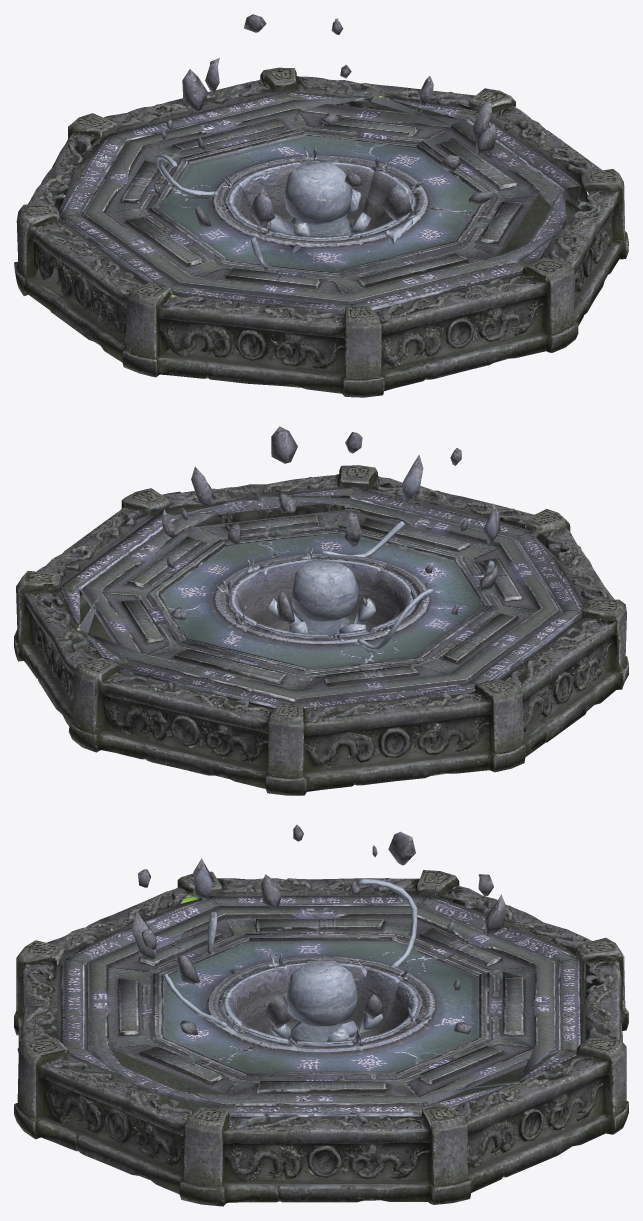
File: shitai.glb
The picture shows the model from 3 angles, top to bottom: view 1: azimuth 30°, elevation 25°; view 2: azimuth 150°, elevation 25°; view 3: azimuth 270°, elevation 25°; orthographic projection. The views are drawn at different scales.
Visible parts, largest first — view 1: tripo_node_5d497a23-7fc4-450d-986b-0cbfbec2738d; view 2: tripo_node_5d497a23-7fc4-450d-986b-0cbfbec2738d; view 3: tripo_node_5d497a23-7fc4-450d-986b-0cbfbec2738d.
Part boxes in pixels (x1,y1,x2,y2): tripo_node_5d497a23-7fc4-450d-986b-0cbfbec2738d: [14, 14, 628, 397]; tripo_node_5d497a23-7fc4-450d-986b-0cbfbec2738d: [14, 426, 628, 795]; tripo_node_5d497a23-7fc4-450d-986b-0cbfbec2738d: [14, 824, 628, 1206].
Size of the model in its own units: 0.998 by 0.3809 by 0.998.
Materials: 1 (1 with a texture image).
